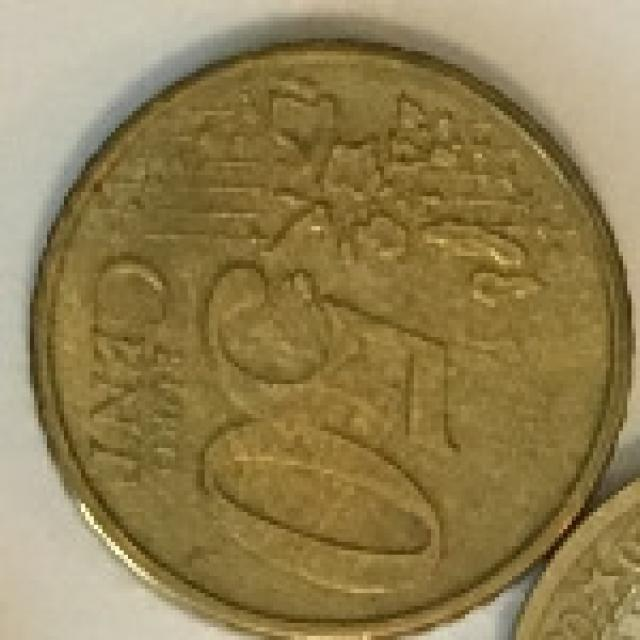50c: (17, 25, 631, 640)
